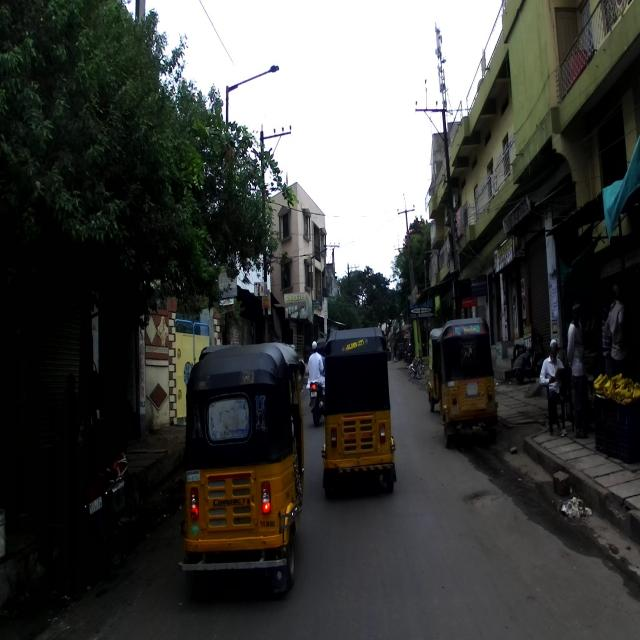autorickshaw: (178, 342, 305, 595), (321, 327, 396, 500), (436, 317, 498, 448)
